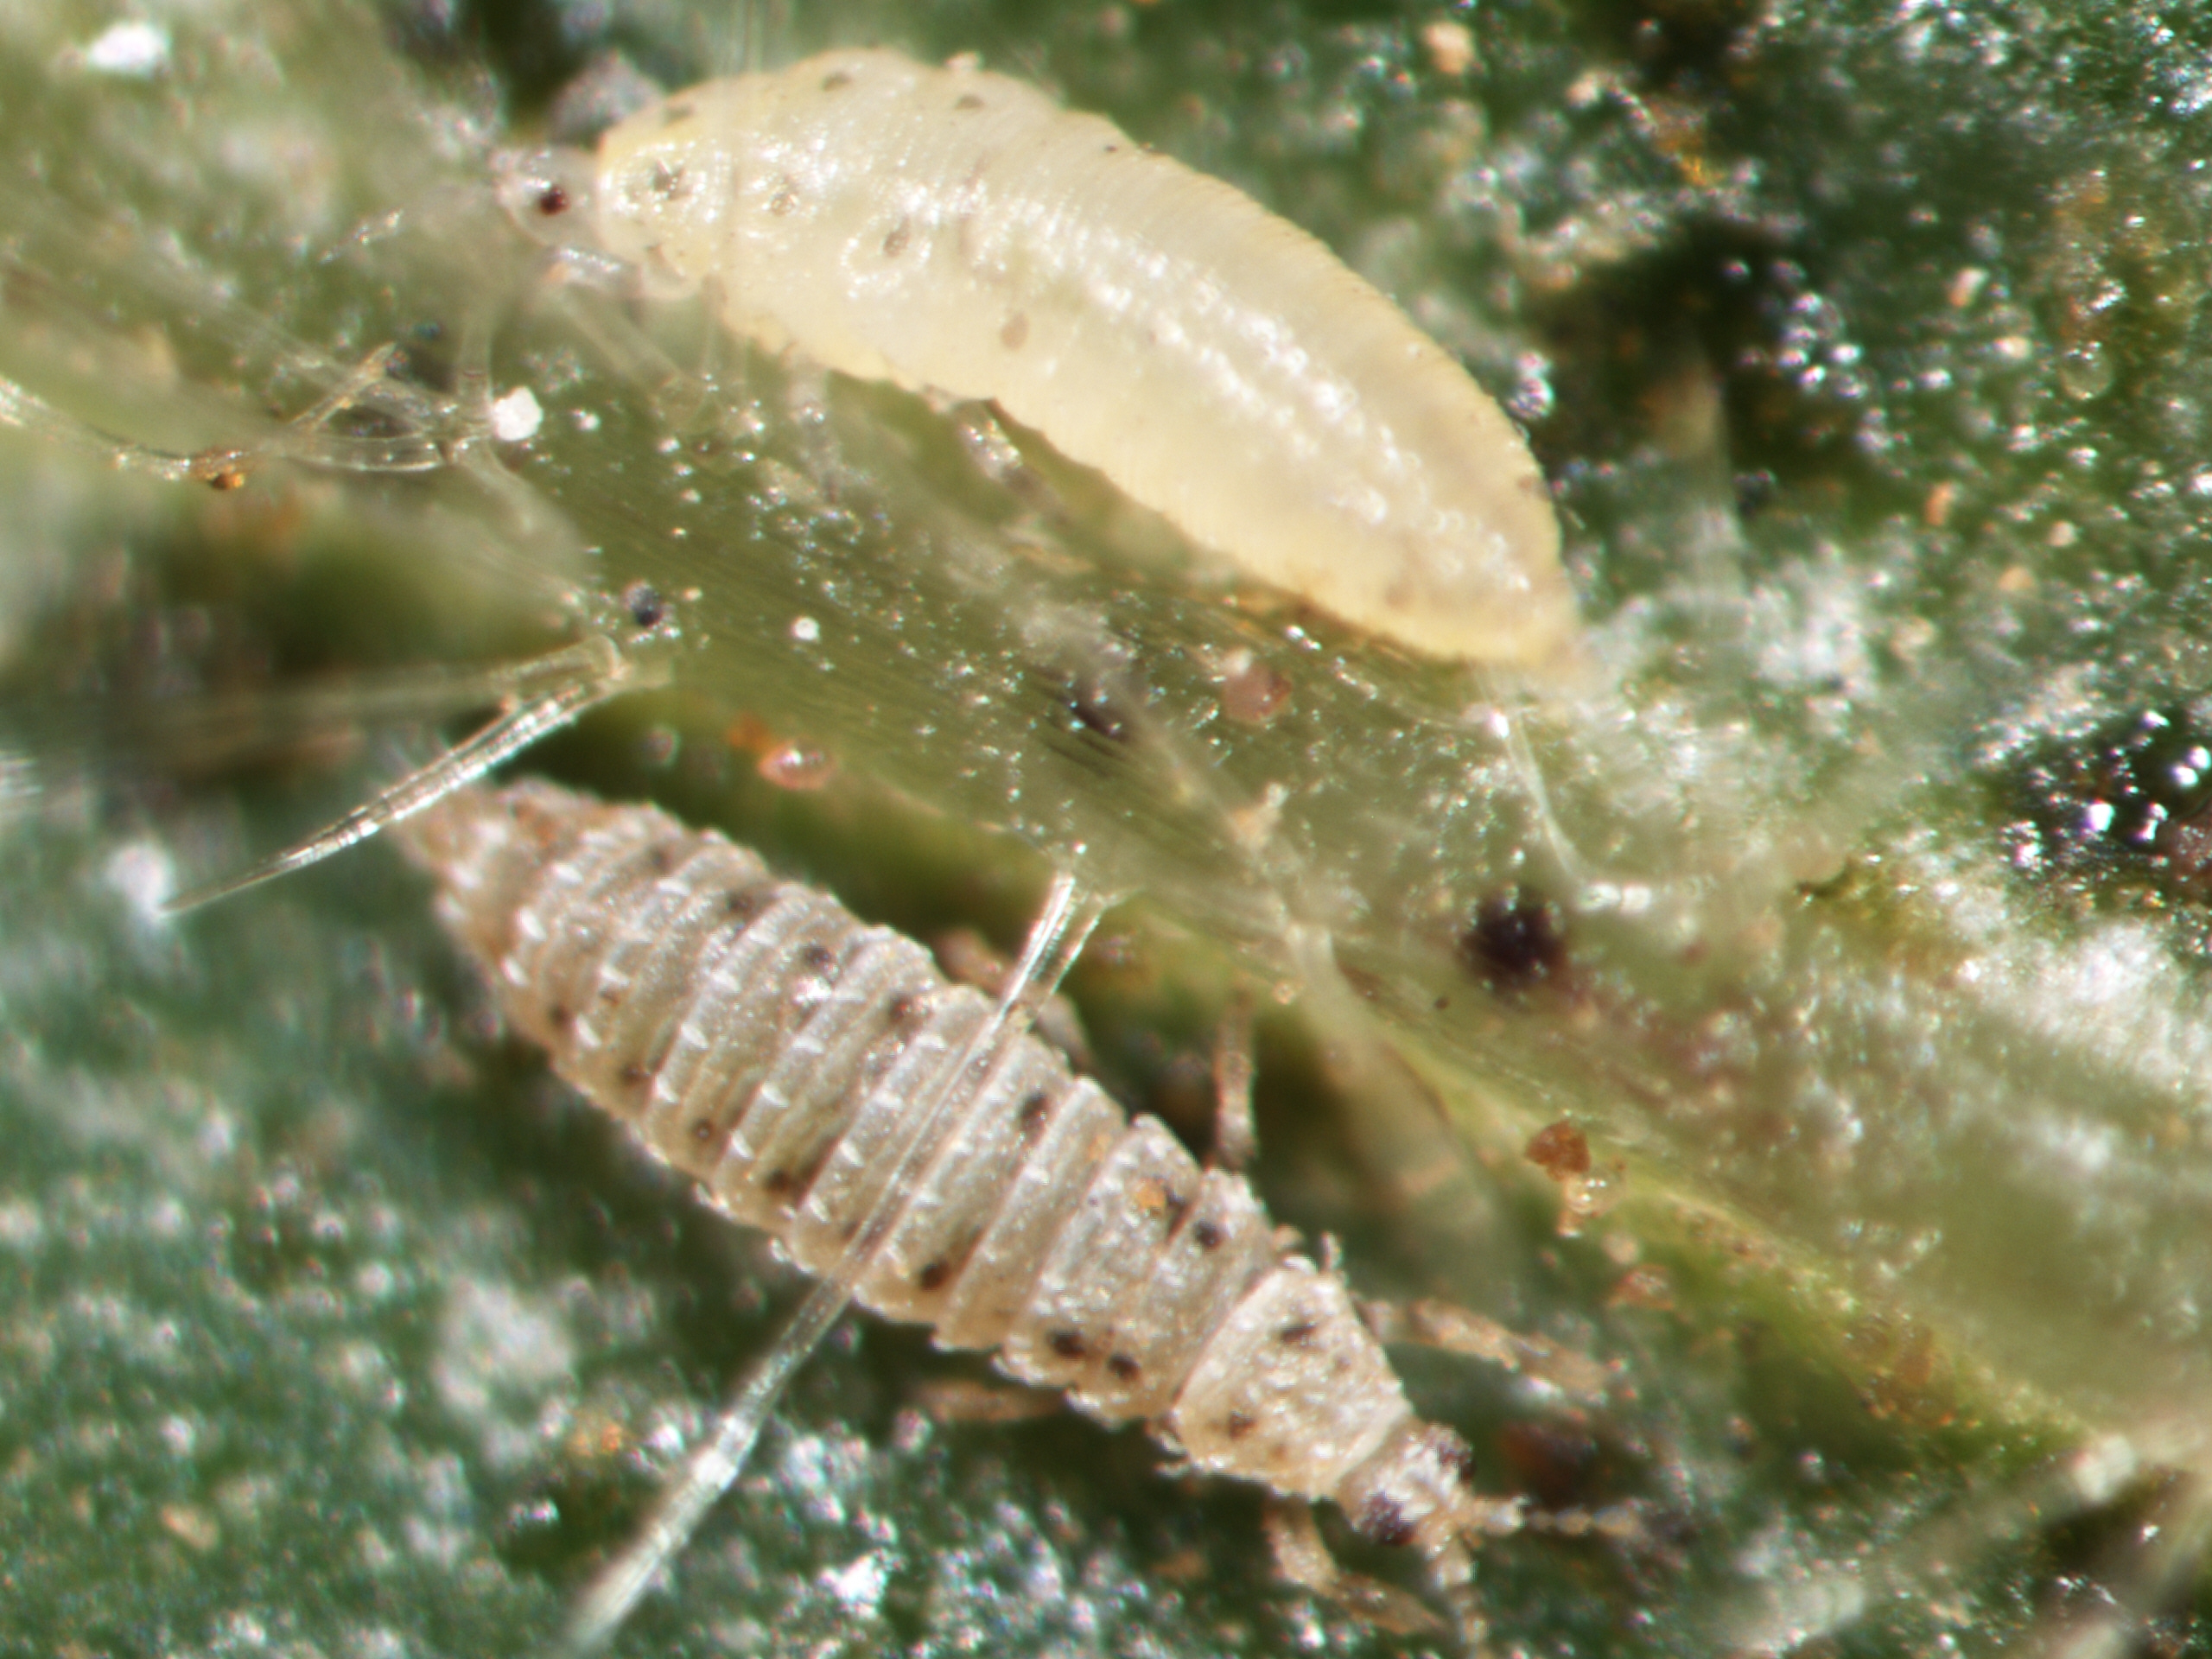Thrips: (325, 728, 1466, 1597), (582, 47, 1596, 692)
